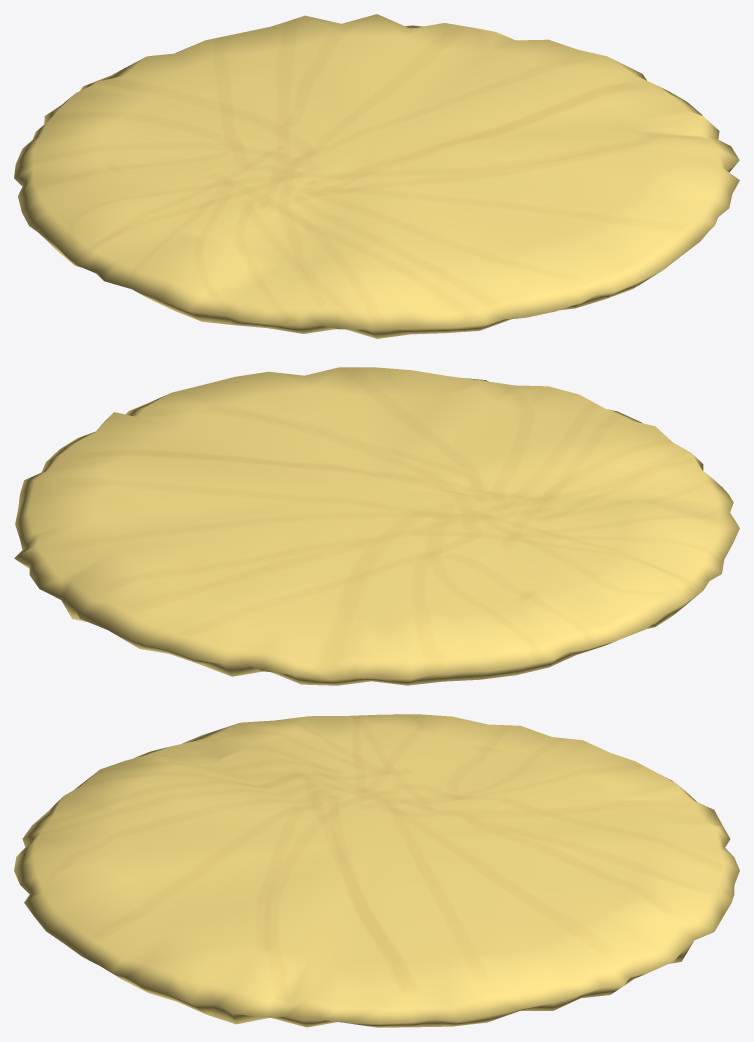
Rendered from cake_layer.glb.
The picture shows the model from 3 angles, top to bottom: view 1: azimuth 30°, elevation 25°; view 2: azimuth 150°, elevation 25°; view 3: azimuth 270°, elevation 25°; orthographic projection.
Parts seen in each view (by area): view 1: Cylinder; view 2: Cylinder; view 3: Cylinder.
Boxes of the visible parts, x1=… form: Cylinder: x1=14, y1=14, x2=739, y2=338; Cylinder: x1=14, y1=367, x2=739, y2=685; Cylinder: x1=14, y1=714, x2=739, y2=1027.
Size of the model in its own units: 0.1889 by 0.0202 by 0.1896.
1 material, 1 textured.
